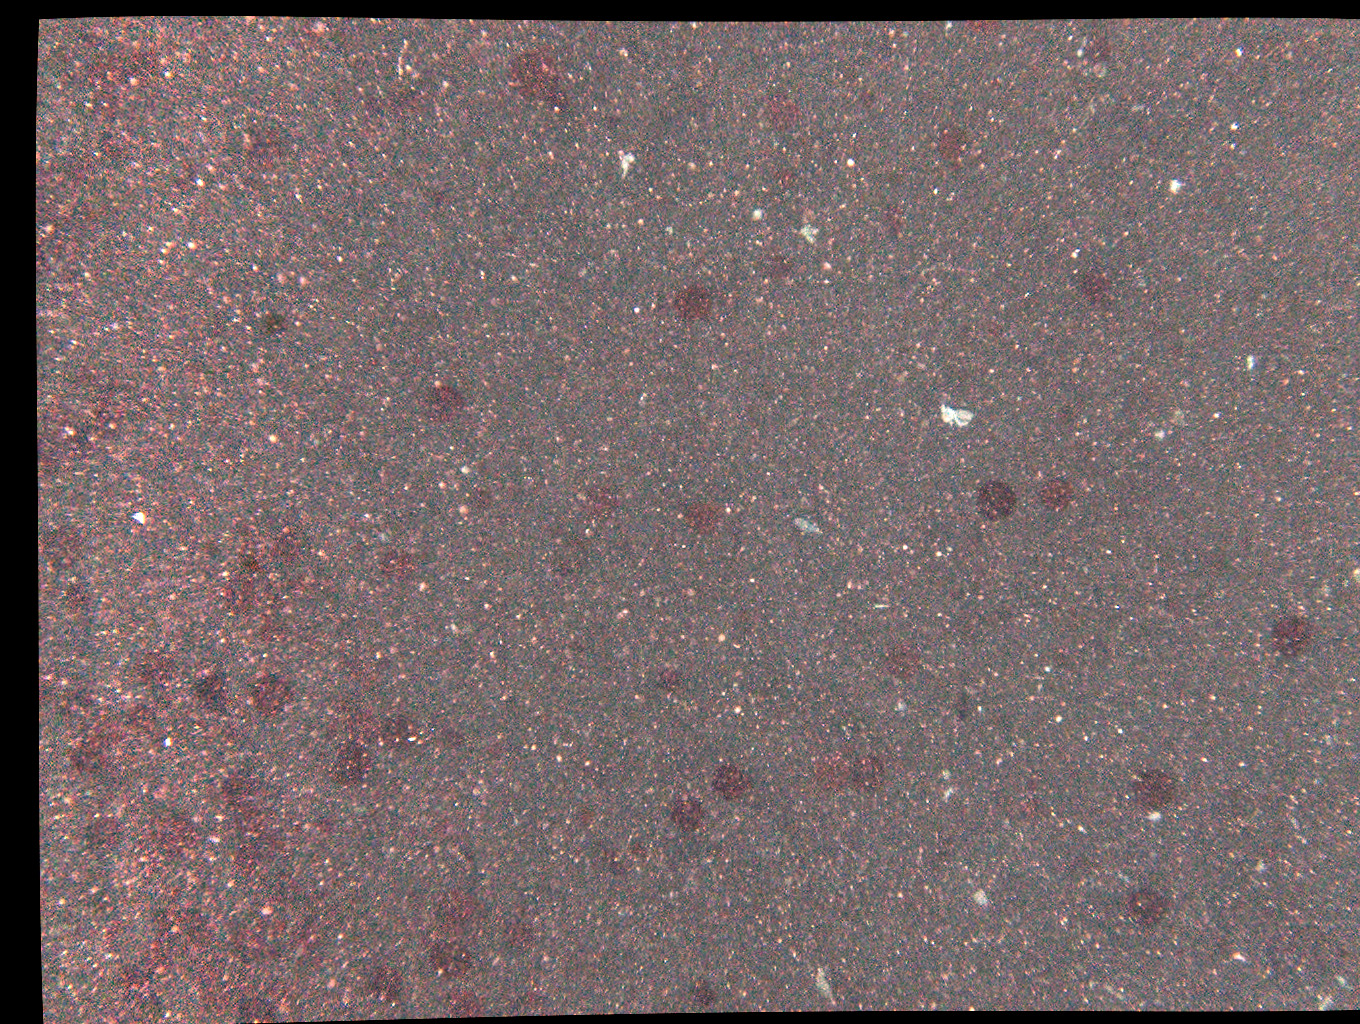Substrate A: (196, 44, 217, 57)
sand dollar: (877, 635, 933, 693), (374, 705, 423, 754), (183, 667, 231, 716), (372, 81, 420, 130), (511, 52, 559, 101), (683, 494, 731, 543), (581, 478, 629, 527), (253, 597, 301, 646), (212, 564, 260, 613), (1059, 24, 1107, 73), (681, 959, 729, 1009), (846, 748, 894, 797), (1127, 877, 1175, 926), (1131, 768, 1179, 817), (758, 248, 806, 298), (1268, 612, 1316, 662), (152, 811, 200, 861), (438, 879, 486, 928), (109, 710, 157, 759), (53, 564, 101, 613), (95, 53, 143, 102), (143, 35, 191, 85), (327, 744, 375, 793), (926, 119, 974, 168), (243, 671, 291, 720), (272, 517, 320, 566), (369, 545, 417, 594), (252, 119, 300, 168), (653, 660, 701, 709), (1071, 258, 1119, 307), (169, 902, 217, 951), (86, 817, 134, 866), (452, 971, 500, 1020), (230, 914, 278, 963), (227, 815, 275, 864), (57, 719, 105, 767), (43, 386, 91, 435), (273, 300, 321, 349), (420, 381, 468, 430), (132, 648, 180, 697), (705, 763, 753, 812), (132, 931, 180, 981), (432, 935, 479, 984), (366, 953, 413, 1002), (217, 766, 264, 815), (967, 475, 1014, 524), (75, 406, 123, 454), (764, 90, 812, 139), (675, 286, 722, 335), (662, 785, 710, 834), (804, 746, 851, 795), (121, 973, 169, 1022), (492, 915, 540, 964), (46, 513, 94, 561), (1041, 473, 1078, 515)
